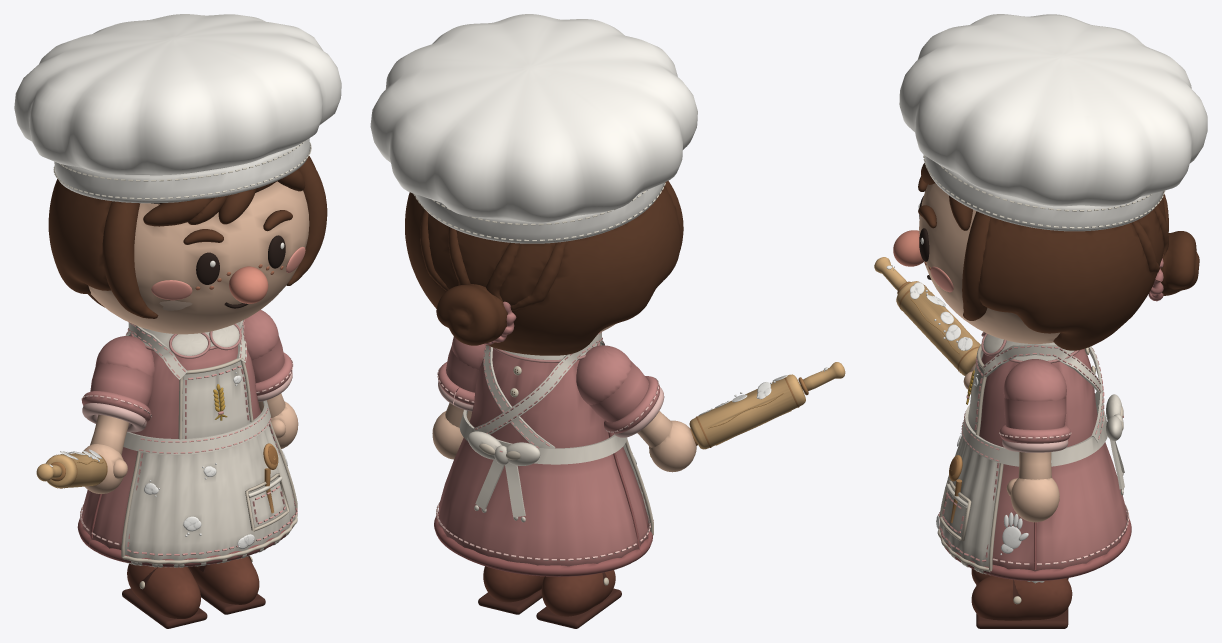
Rendered from baker.glb.
The picture shows the model from 3 angles, left to right: view 1: azimuth 30°, elevation 25°; view 2: azimuth 150°, elevation 25°; view 3: azimuth 270°, elevation 25°; orthographic projection.
Parts seen in each view (by area): view 1: head, body, arm_r, arm_l, leg_r, leg_l, rolling_pin; view 2: head, body, arm_r, rolling_pin, arm_l, leg_r, leg_l; view 3: head, body, arm_l, leg_l, rolling_pin.
Part boxes in pixels (x1,y1,x2,y2): head: (14, 14, 341, 334); body: (77, 319, 297, 567); arm_r: (81, 336, 154, 493); arm_l: (240, 310, 298, 448); leg_r: (122, 563, 207, 628); leg_l: (189, 555, 265, 614); rolling_pin: (36, 449, 107, 488); head: (370, 14, 697, 355); body: (434, 332, 653, 576); arm_r: (576, 345, 696, 472); rolling_pin: (649, 362, 845, 457); arm_l: (432, 337, 485, 459); leg_r: (536, 570, 621, 628); leg_l: (478, 566, 544, 614); head: (893, 14, 1207, 350); body: (936, 332, 1131, 580); arm_l: (999, 359, 1071, 522); leg_l: (971, 575, 1072, 628); rolling_pin: (874, 257, 980, 375).
Size of the model in its own units: 1.08 by 1.54 by 0.8412.
